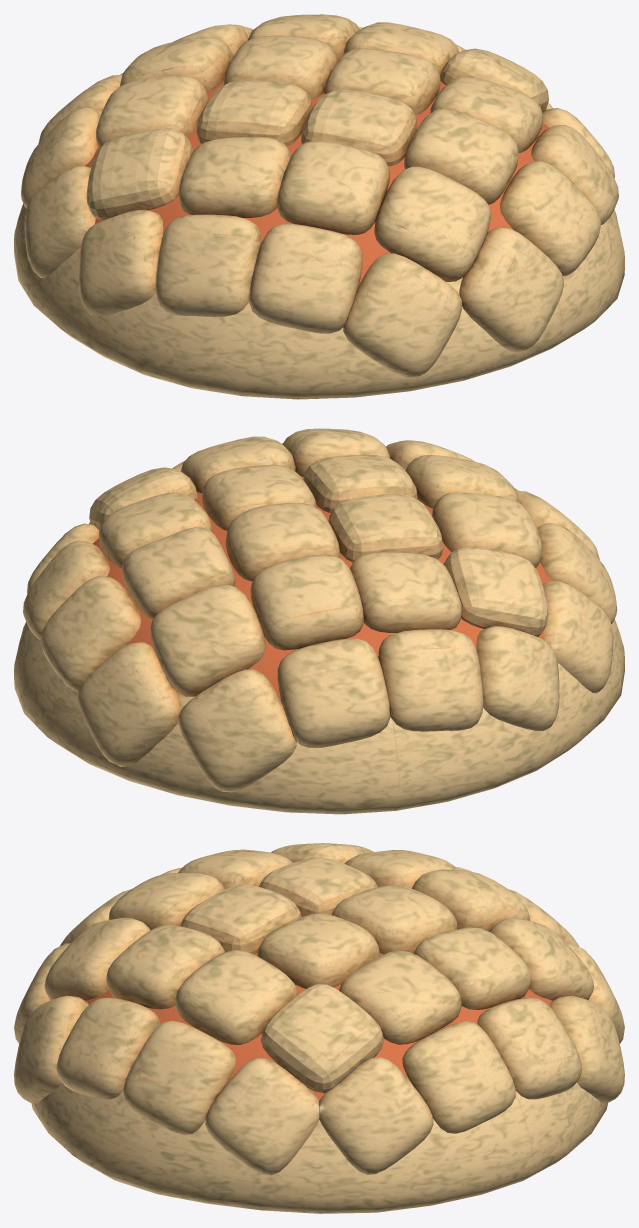
The model's file is Melon.fbx.
3 views of the same model, one above another, from view 1: azimuth 30°, elevation 25°; view 2: azimuth 150°, elevation 25°; view 3: azimuth 270°, elevation 25° (orthographic). The views are drawn at different scales.
Visible parts, largest first — view 1: melon pan; view 2: melon pan; view 3: melon pan.
Boxes of the visible parts, bbox=[...] form: melon pan: bbox=[14, 14, 624, 399]; melon pan: bbox=[14, 428, 624, 814]; melon pan: bbox=[14, 843, 624, 1213].
Bounding box in the file's own units: 16.67 × 6.65 × 17.25.
3 materials, 2 textured.
